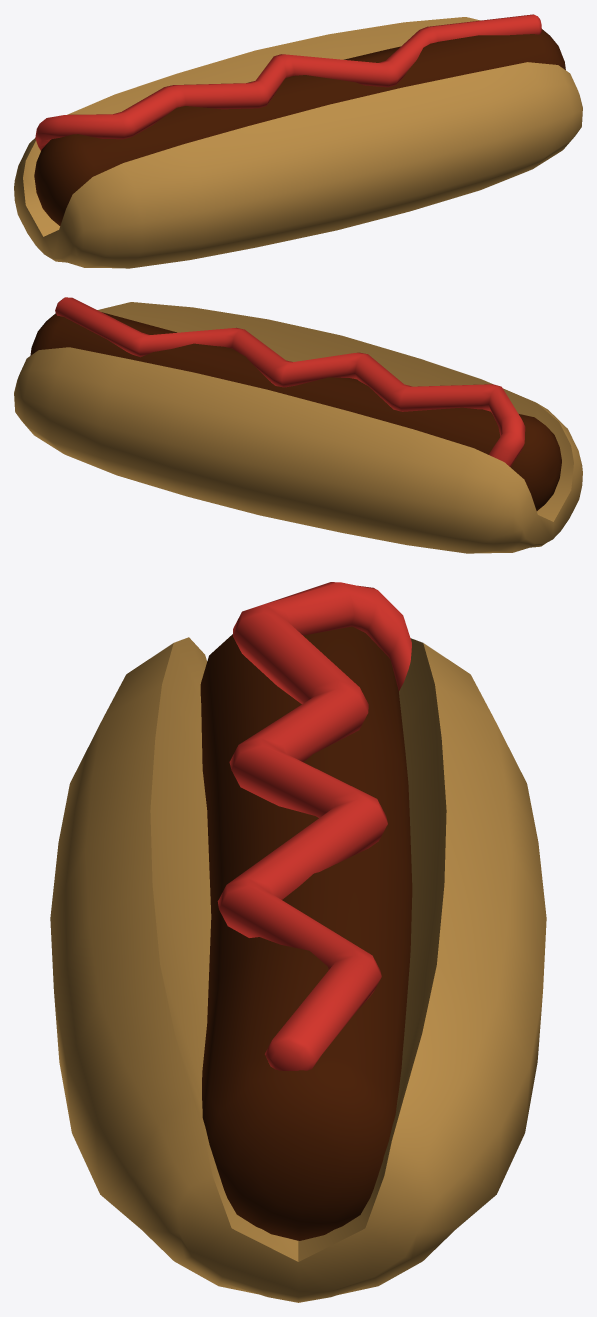
Rendered from Hotdog.fbx.
The picture shows the model from 3 angles, top to bottom: view 1: azimuth 30°, elevation 25°; view 2: azimuth 150°, elevation 25°; view 3: azimuth 270°, elevation 25°; orthographic projection. The views are drawn at different scales.
Visible parts, largest first — view 1: Hotdog; view 2: Hotdog; view 3: Hotdog.
Part boxes in pixels (x1=…): Hotdog: x1=14, y1=14, x2=582, y2=268; Hotdog: x1=14, y1=297, x2=582, y2=553; Hotdog: x1=50, y1=582, x2=546, y2=1302.
Size of the model in its own units: 50.47 by 14.65 by 21.02.
